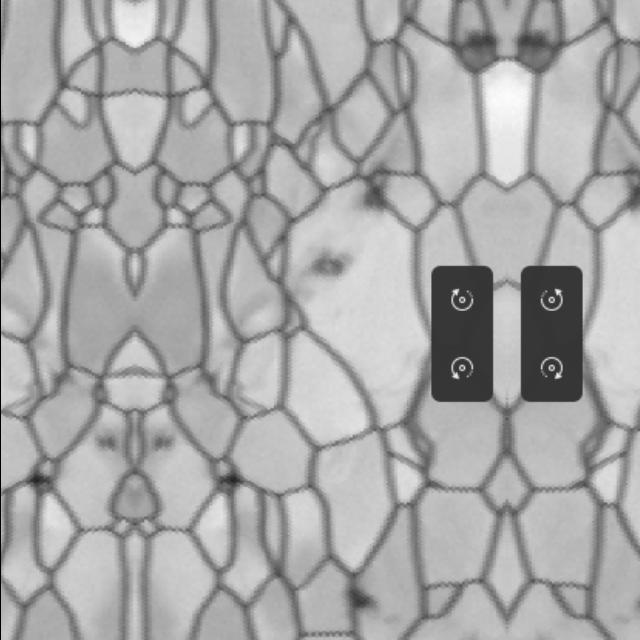good_void: (447, 24, 500, 72), (511, 26, 563, 72), (303, 249, 352, 288), (351, 176, 390, 217), (340, 577, 379, 617), (207, 471, 243, 499), (88, 430, 120, 461), (146, 430, 177, 460), (25, 473, 56, 498), (624, 179, 640, 212), (611, 612, 633, 629), (379, 612, 400, 629)
